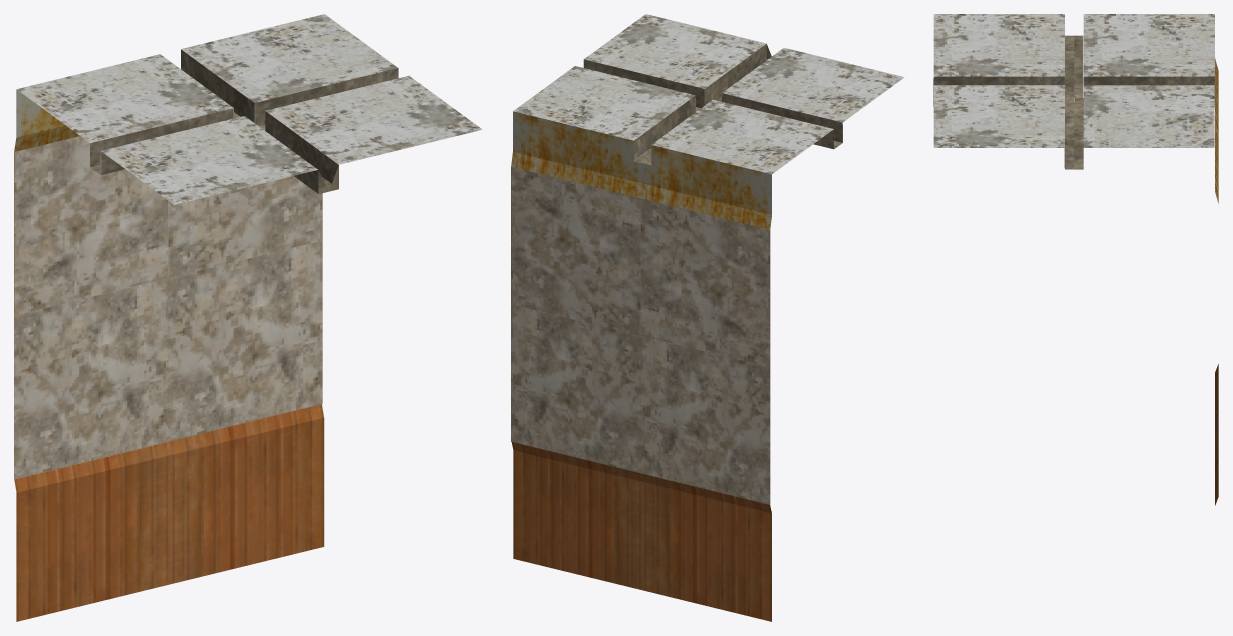
The model's file is wallpiece.fbx.
3 views of the same model, side by side, from view 1: azimuth 30°, elevation 25°; view 2: azimuth 150°, elevation 25°; view 3: azimuth 270°, elevation 25° (orthographic). The views are drawn at different scales.
Visible parts, largest first — view 1: FlatWallPiece; view 2: FlatWallPiece; view 3: FlatWallPiece.
Part boxes in pixels (x1=…): FlatWallPiece: x1=14, y1=14, x2=482, y2=621; FlatWallPiece: x1=511, y1=14, x2=904, y2=621; FlatWallPiece: x1=933, y1=14, x2=1218, y2=505.
Bounding box in the file's own units: 200 × 330 × 180.
